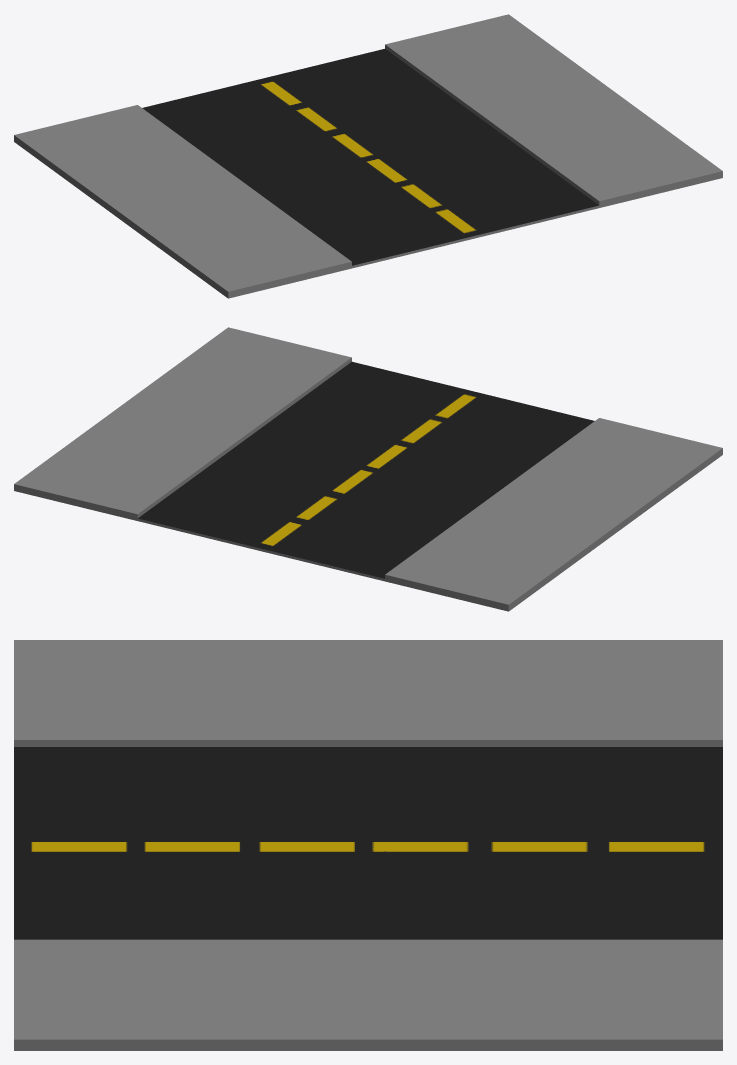
Rendered from Calle_Parte.fbx.
3 renders of one model, top to bottom at view 1: azimuth 30°, elevation 25°; view 2: azimuth 150°, elevation 25°; view 3: azimuth 270°, elevation 25°, orthographic. The views are drawn at different scales.
Visible parts, largest first — view 1: Calle-parte; view 2: Calle-parte; view 3: Calle-parte.
Part boxes in pixels (x1,y1,x2,y2): Calle-parte: [14, 14, 722, 298]; Calle-parte: [14, 327, 722, 611]; Calle-parte: [14, 640, 722, 1050].
Bounding box in the file's own units: 800 × 10.59 × 600.
Materials: 2 (2 with a texture image).
